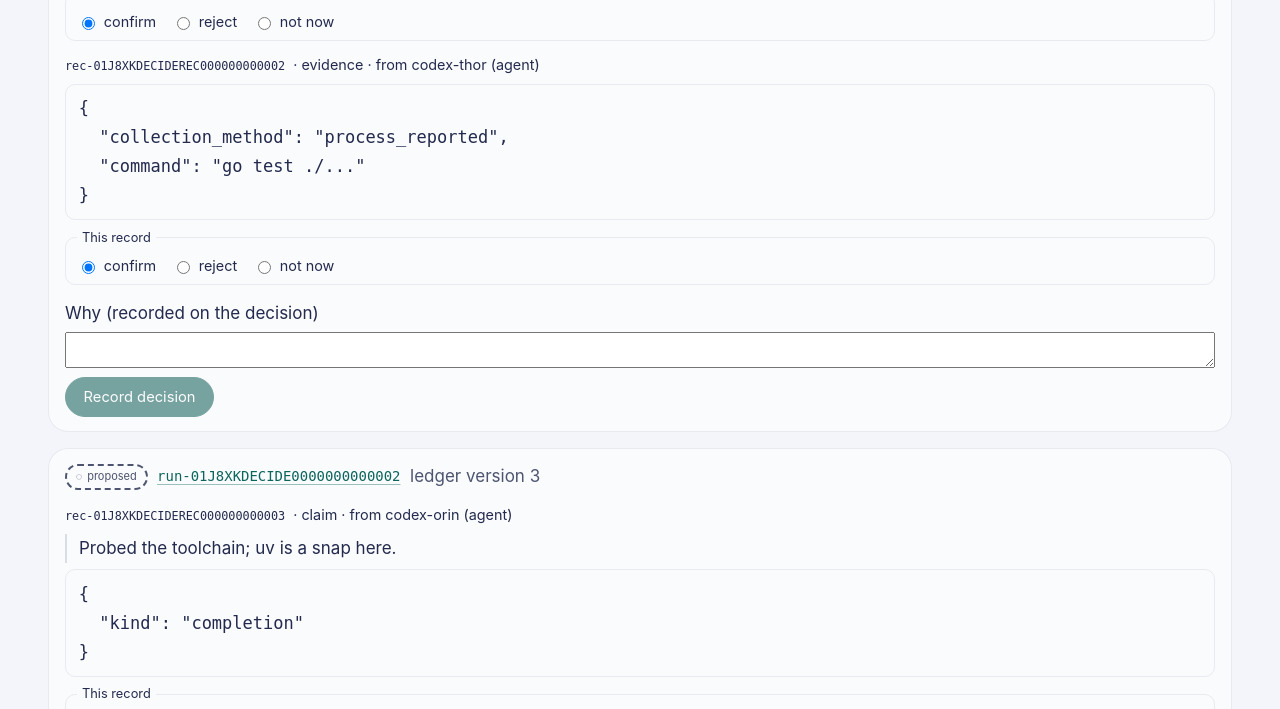
Test case: Decisions rendering › disables the decision until a rationale is present; the reviewer is the signed-in actor, never typed
(page scrolled)
Expected: the button "Record decision" is disabled, [65,377,214,417]
In the text box labelled "Why (recorded on the decision)": coordinates (640, 350) [65,332,1215,368], type "re-ran the suite on spark"
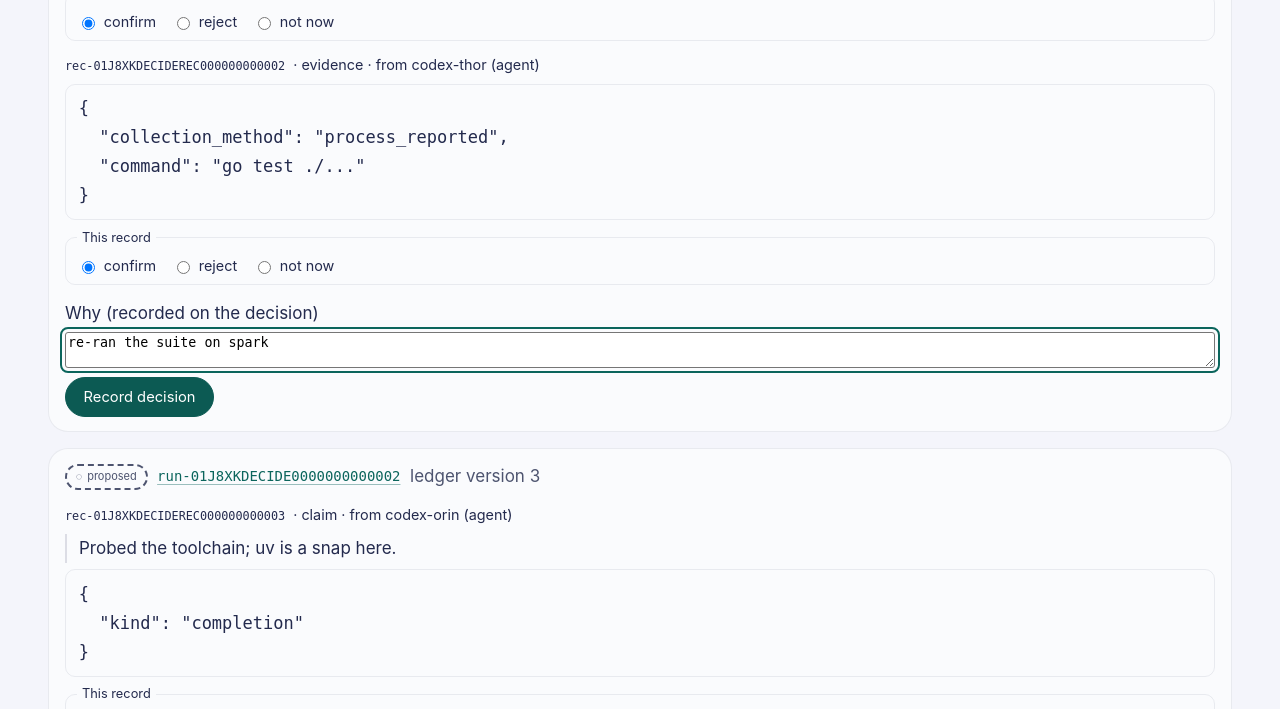
Expected: the button "Record decision" is enabled, [65,377,214,417]
